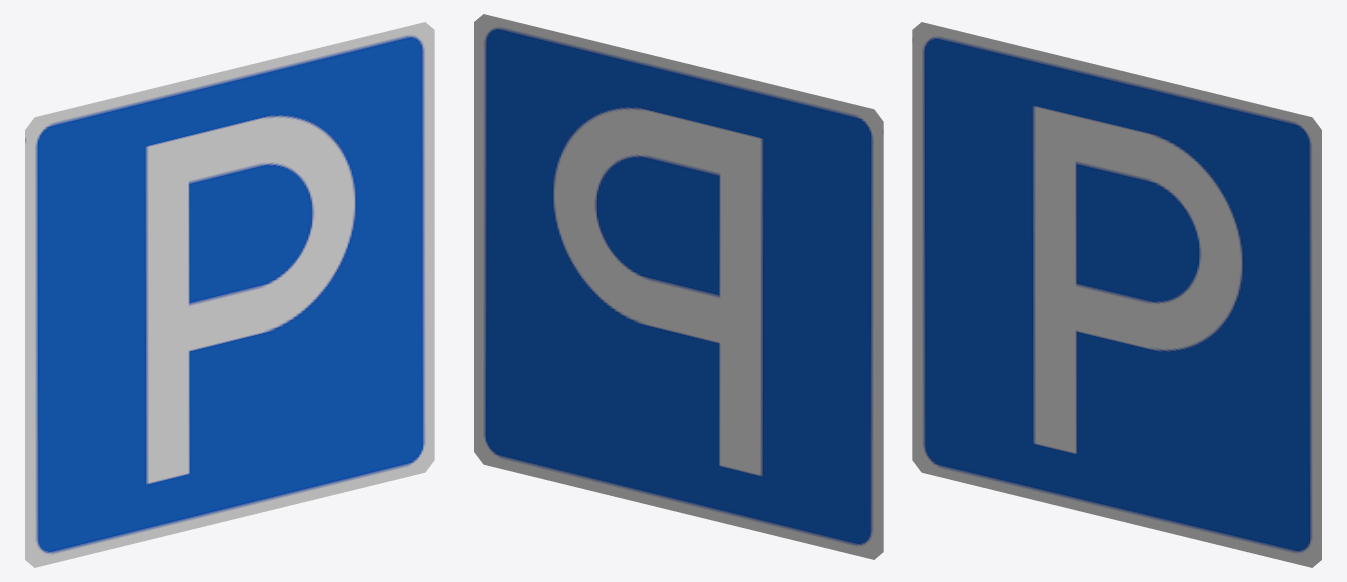
File: SM_Road_Sign_010.fbx
3 renders of one model, left to right at view 1: azimuth 30°, elevation 25°; view 2: azimuth 150°, elevation 25°; view 3: azimuth 330°, elevation 25°, orthographic.
Visible parts, largest first — view 1: SM_Road_Sign_010; view 2: SM_Road_Sign_010; view 3: SM_Road_Sign_010.
Boxes of the visible parts, x1,y1,x2,y2 form: SM_Road_Sign_010: (25, 22, 434, 567); SM_Road_Sign_010: (474, 14, 883, 559); SM_Road_Sign_010: (912, 22, 1321, 567).
Bounding box in the file's own units: 40.95 × 43.04 × 1.89.
